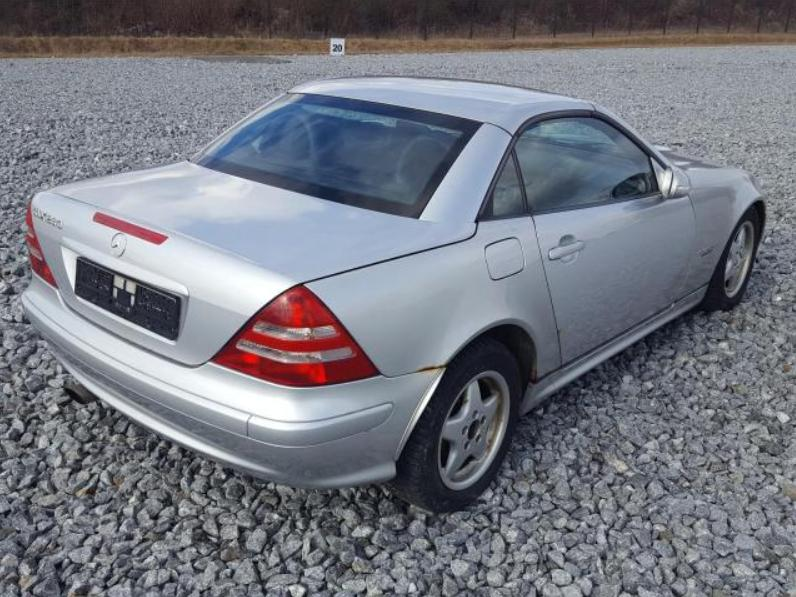Back-bumper: (20, 270, 446, 491)
Back-wheel: (385, 340, 523, 511)
Back-window: (475, 136, 528, 222)
Back-windshield: (189, 93, 478, 219)
Fender: (679, 166, 767, 300)
Front-door: (513, 109, 697, 368)
Front-wheel: (697, 212, 763, 309)
Front-window: (516, 116, 658, 211)
Hood: (660, 149, 730, 168)
License-plate: (74, 256, 181, 341)
Mirror: (661, 163, 691, 200)
Quarter-panel: (304, 215, 561, 383)
Rocker-panel: (520, 283, 709, 416)
Roof: (287, 75, 595, 135)
Tail-light: (211, 285, 377, 387), (27, 198, 56, 287)
Trunk: (32, 160, 478, 367)
